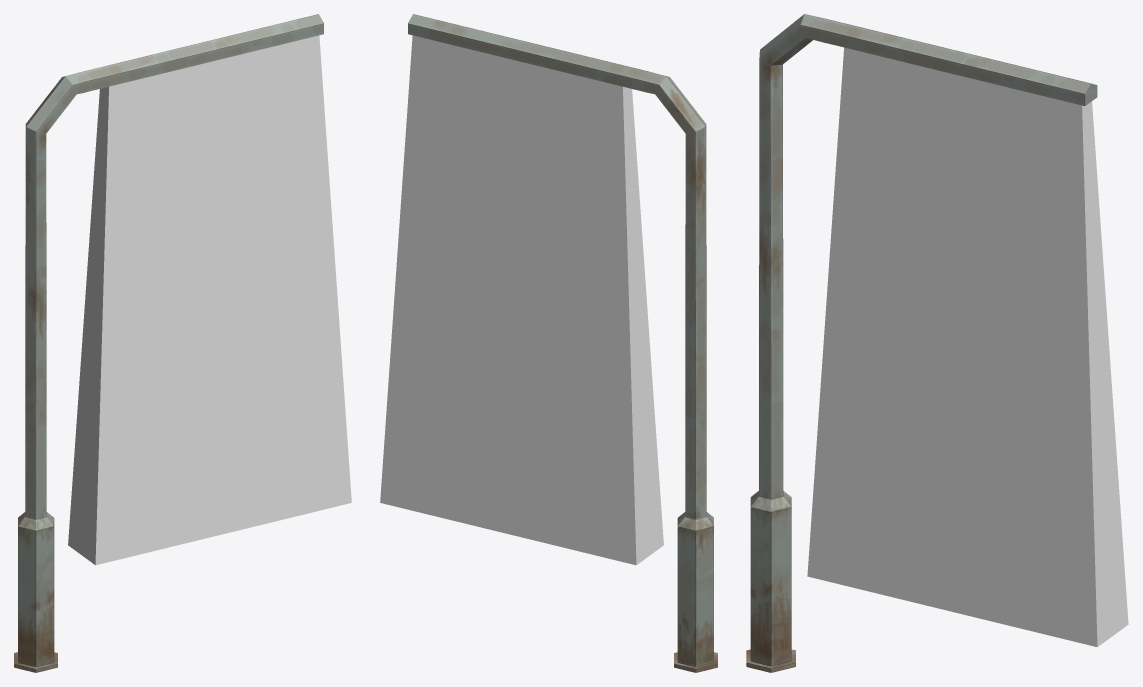
File: Streetlight.fbx
3 views of the same model, side by side, from view 1: azimuth 30°, elevation 25°; view 2: azimuth 150°, elevation 25°; view 3: azimuth 330°, elevation 25° (orthographic). The views are drawn at different scales.
Visible parts, largest first — view 1: Godray, Streetlight; view 2: Godray, Streetlight; view 3: Godray, Streetlight.
Part boxes in pixels (x1=…): Godray: x1=68, y1=35, x2=351, y2=565; Streetlight: x1=14, y1=14, x2=323, y2=672; Godray: x1=380, y1=35, x2=663, y2=565; Streetlight: x1=408, y1=14, x2=717, y2=672; Godray: x1=807, y1=47, x2=1128, y2=647; Streetlight: x1=746, y1=14, x2=1097, y2=672.
Size of the model in its own units: 544 by 930 by 80.
Materials: 2 (2 with a texture image).
